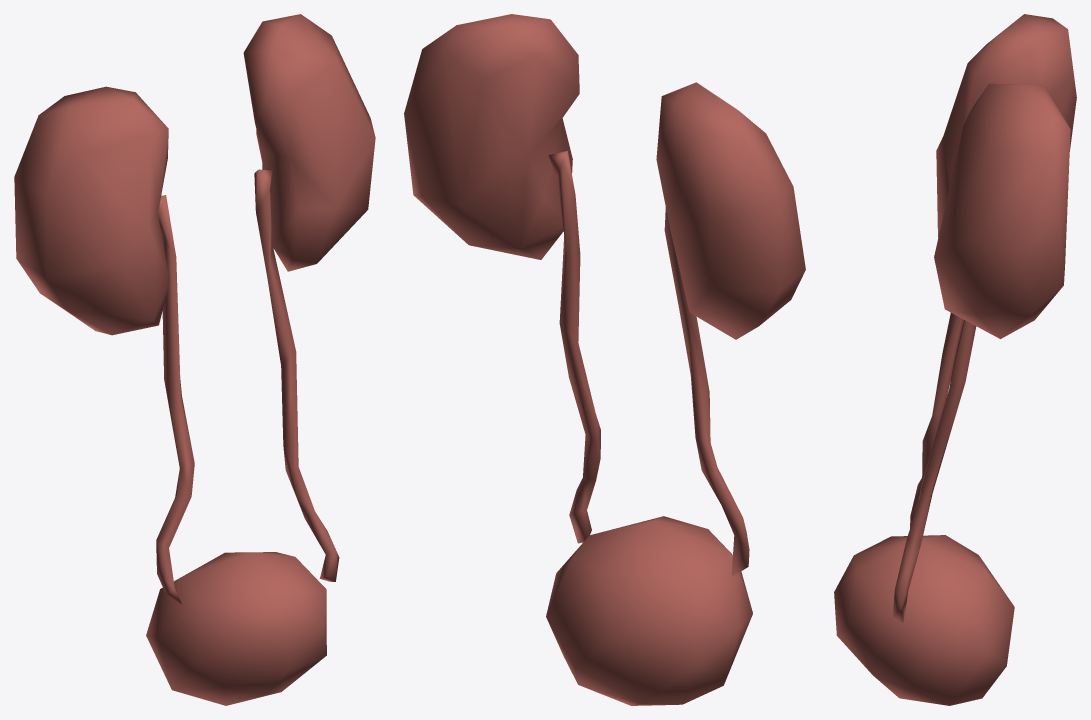
Rendered from pediatric_child_5y_male.urinary.LOD3.glb.
The picture shows the model from 3 angles, left to right: view 1: azimuth 30°, elevation 25°; view 2: azimuth 150°, elevation 25°; view 3: azimuth 270°, elevation 25°; orthographic projection. The views are drawn at different scales.
Parts seen in each view (by area): view 1: PEDIATRIC.CHILD_5Y.MALE.URINARY.KIDNEY_CORTEX.R, PEDIATRIC.CHILD_5Y.MALE.URINARY.KIDNEY_CORTEX.L, PEDIATRIC.CHILD_5Y.MALE.URINARY.URINARY_BLADDER_WALL, PEDIATRIC.CHILD_5Y.MALE.URINARY.URETER.L, PEDIATRIC.CHILD_5Y.MALE.URINARY.URETER.R; view 2: PEDIATRIC.CHILD_5Y.MALE.URINARY.KIDNEY_CORTEX.L, PEDIATRIC.CHILD_5Y.MALE.URINARY.URINARY_BLADDER_WALL, PEDIATRIC.CHILD_5Y.MALE.URINARY.KIDNEY_CORTEX.R, PEDIATRIC.CHILD_5Y.MALE.URINARY.URETER.L, PEDIATRIC.CHILD_5Y.MALE.URINARY.URETER.R; view 3: PEDIATRIC.CHILD_5Y.MALE.URINARY.KIDNEY_CORTEX.L, PEDIATRIC.CHILD_5Y.MALE.URINARY.URINARY_BLADDER_WALL, PEDIATRIC.CHILD_5Y.MALE.URINARY.KIDNEY_CORTEX.R, PEDIATRIC.CHILD_5Y.MALE.URINARY.URETER.L, PEDIATRIC.CHILD_5Y.MALE.URINARY.URETER.R.
Boxes of the visible parts, box(x1,y1,x2,y2) form: PEDIATRIC.CHILD_5Y.MALE.URINARY.KIDNEY_CORTEX.R: box(14, 86, 169, 335); PEDIATRIC.CHILD_5Y.MALE.URINARY.KIDNEY_CORTEX.L: box(243, 14, 375, 271); PEDIATRIC.CHILD_5Y.MALE.URINARY.URINARY_BLADDER_WALL: box(146, 552, 326, 705); PEDIATRIC.CHILD_5Y.MALE.URINARY.URETER.L: box(254, 169, 339, 581); PEDIATRIC.CHILD_5Y.MALE.URINARY.URETER.R: box(156, 195, 194, 604); PEDIATRIC.CHILD_5Y.MALE.URINARY.KIDNEY_CORTEX.L: box(404, 14, 579, 259); PEDIATRIC.CHILD_5Y.MALE.URINARY.URINARY_BLADDER_WALL: box(546, 516, 752, 705); PEDIATRIC.CHILD_5Y.MALE.URINARY.KIDNEY_CORTEX.R: box(656, 82, 805, 339); PEDIATRIC.CHILD_5Y.MALE.URINARY.URETER.L: box(548, 151, 600, 543); PEDIATRIC.CHILD_5Y.MALE.URINARY.URETER.R: box(664, 207, 749, 576); PEDIATRIC.CHILD_5Y.MALE.URINARY.KIDNEY_CORTEX.L: box(934, 83, 1070, 338); PEDIATRIC.CHILD_5Y.MALE.URINARY.URINARY_BLADDER_WALL: box(834, 535, 1014, 705); PEDIATRIC.CHILD_5Y.MALE.URINARY.KIDNEY_CORTEX.R: box(936, 14, 1076, 237); PEDIATRIC.CHILD_5Y.MALE.URINARY.URETER.L: box(892, 319, 976, 622); PEDIATRIC.CHILD_5Y.MALE.URINARY.URETER.R: box(910, 313, 962, 527).
Size of the model in its own units: 0.123 by 0.2151 by 0.0718.
